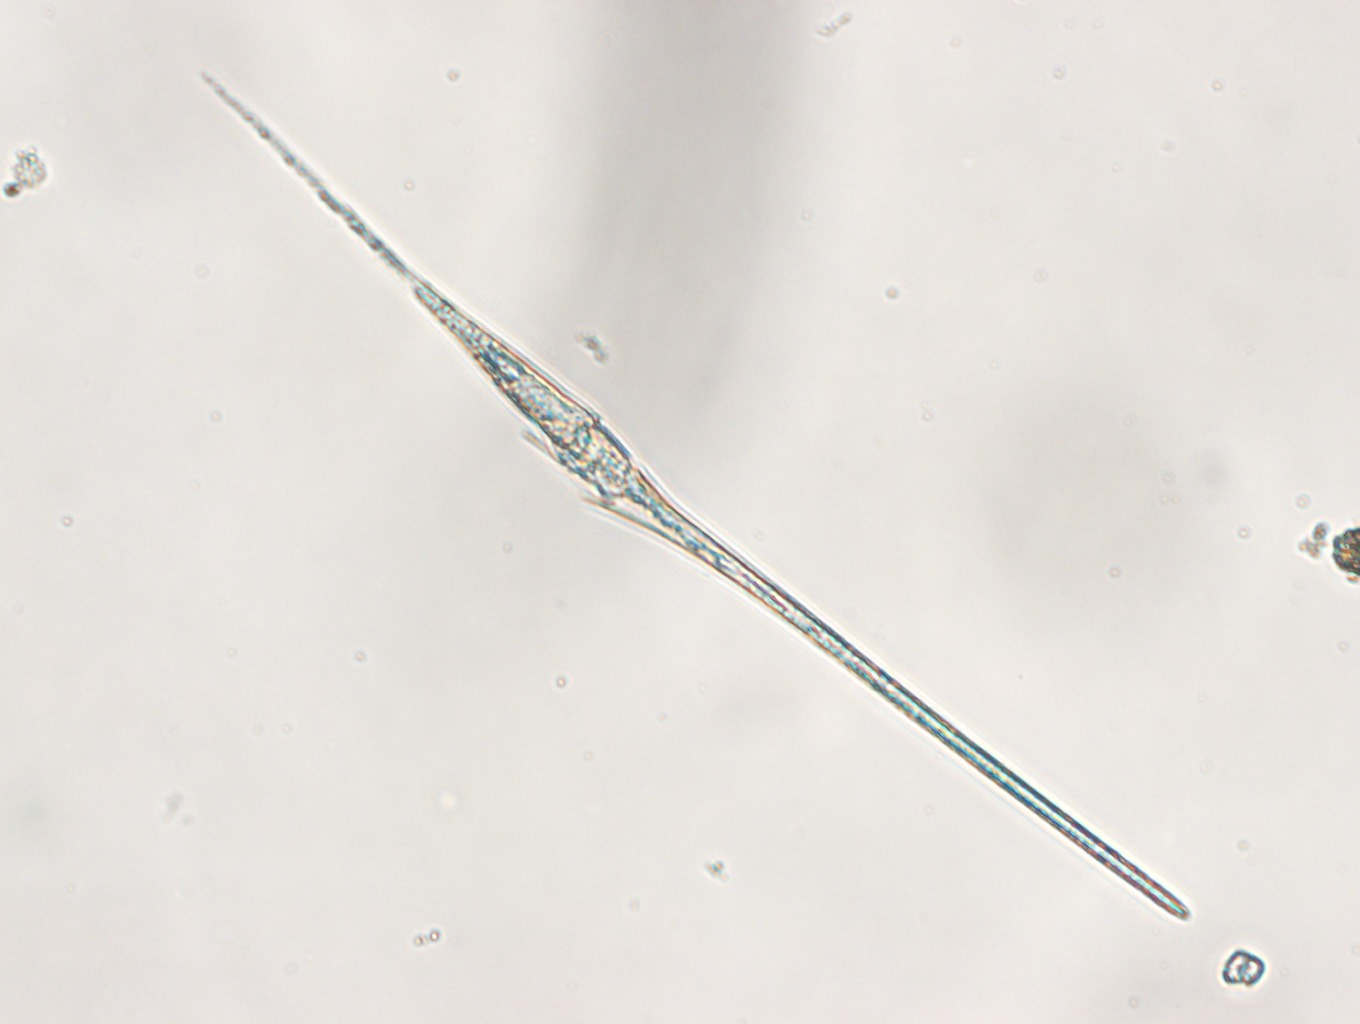ceratium fusus: (409, 275, 1197, 925)
